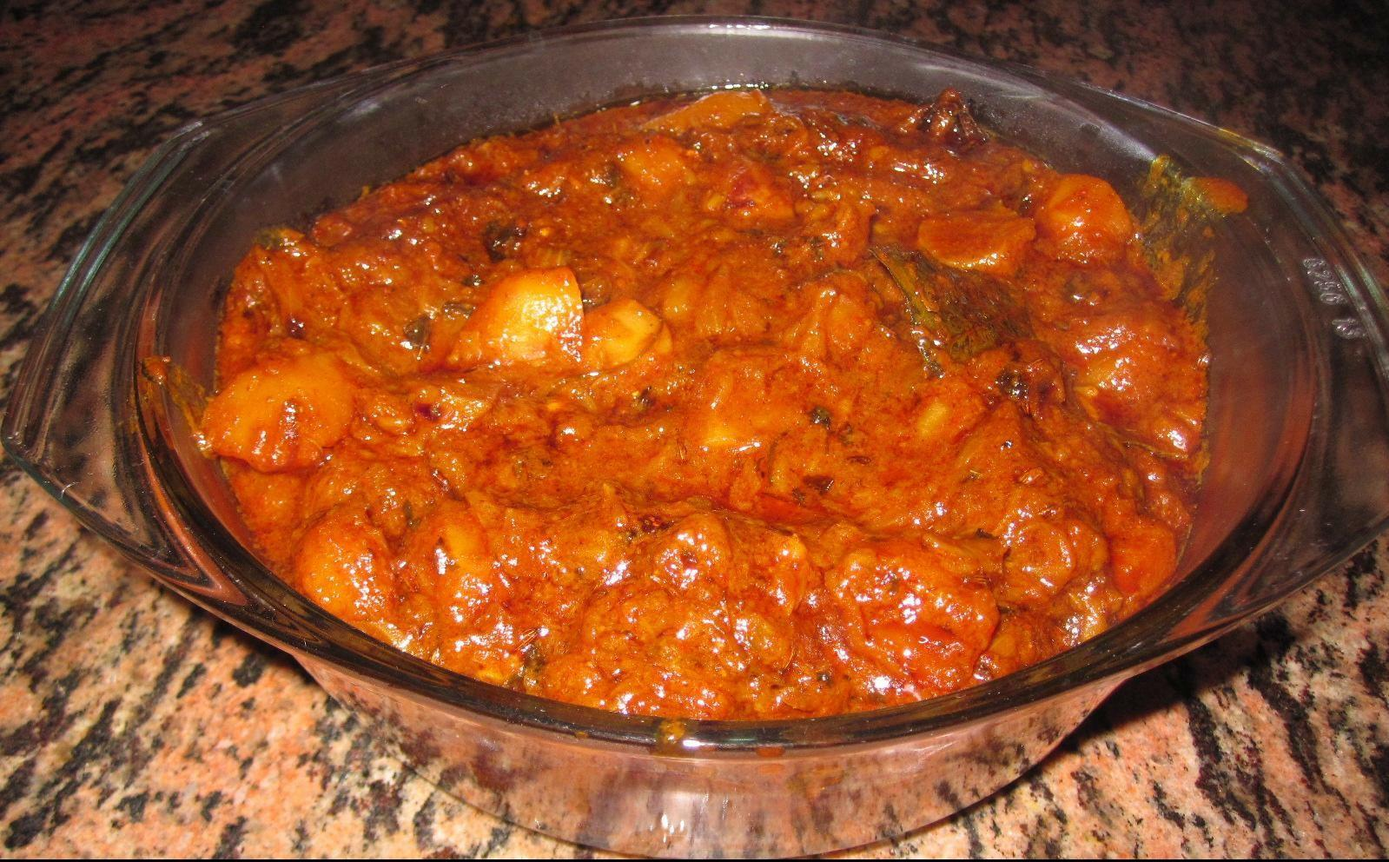DumAloo: (192, 82, 1213, 718)
